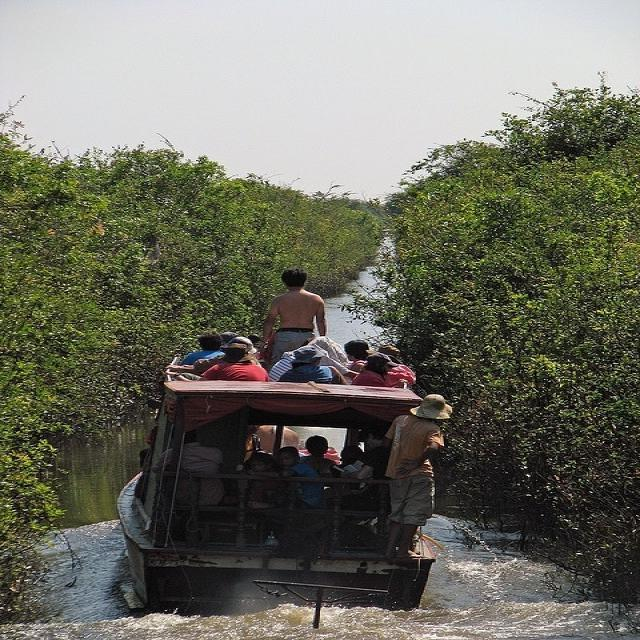boat: (114, 336, 442, 616)
